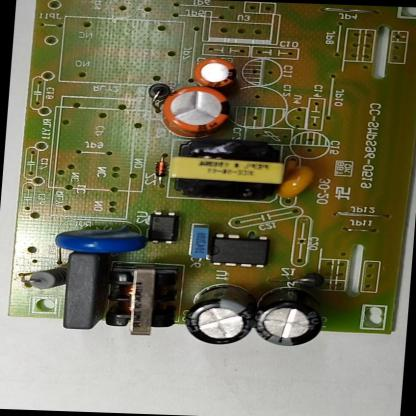Cap1: (156, 84, 238, 140)
Cap2: (177, 53, 247, 91)
Cap3: (180, 280, 260, 348)
Cap4: (244, 280, 331, 350)
MOSFET: (199, 230, 273, 270)
Mov: (43, 220, 152, 258)
Resistor: (22, 264, 74, 294)
Transformer: (162, 134, 287, 206), (98, 262, 185, 339)
